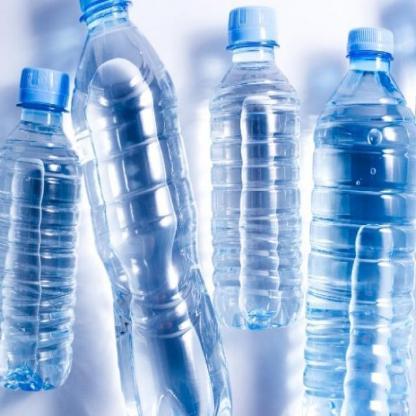Plastic Bottle: (72, 0, 230, 416), (304, 28, 416, 416), (210, 6, 302, 330), (0, 68, 82, 392)
